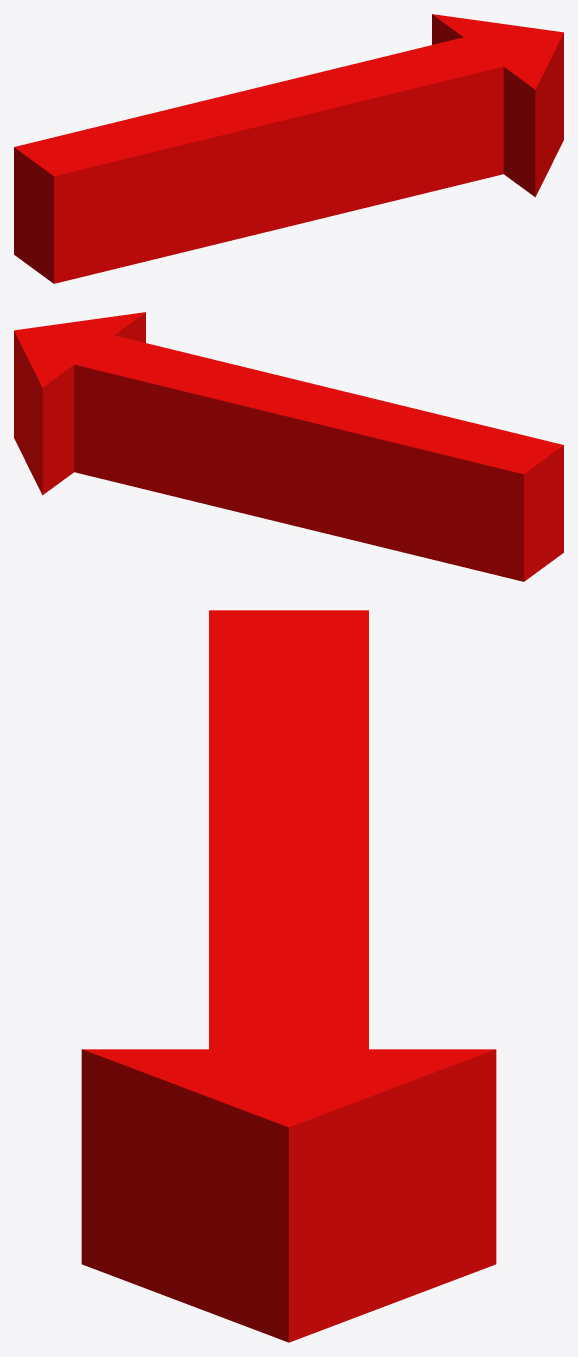
Rendered from asset.gltf.
3 renders of one model, top to bottom at view 1: azimuth 30°, elevation 25°; view 2: azimuth 150°, elevation 25°; view 3: azimuth 270°, elevation 25°, orthographic. The views are drawn at different scales.
Visible parts, largest first — view 1: mesh1_meshnode_1, mesh8_meshnode_8, mesh2_meshnode_2, mesh0_meshnode_0, mesh6_meshnode_6, mesh4_meshnode_4; view 2: mesh3_meshnode_3, mesh8_meshnode_8, mesh2_meshnode_2, mesh4_meshnode_4, mesh5_meshnode_5, mesh0_meshnode_0; view 3: mesh8_meshnode_8, mesh5_meshnode_5, mesh6_meshnode_6.
Part boxes in pixels (left/top/right/bottom): mesh1_meshnode_1: left=54, top=66, right=503, bottom=283; mesh8_meshnode_8: left=14, top=14, right=563, bottom=176; mesh2_meshnode_2: left=14, top=147, right=53, bottom=283; mesh0_meshnode_0: left=503, top=67, right=535, bottom=196; mesh6_meshnode_6: left=535, top=33, right=563, bottom=196; mesh4_meshnode_4: left=432, top=14, right=462, bottom=44; mesh3_meshnode_3: left=74, top=364, right=523, bottom=581; mesh8_meshnode_8: left=14, top=312, right=563, bottom=474; mesh2_meshnode_2: left=524, top=445, right=563, bottom=581; mesh4_meshnode_4: left=42, top=365, right=74, bottom=494; mesh5_meshnode_5: left=14, top=331, right=42, bottom=494; mesh0_meshnode_0: left=115, top=312, right=145, bottom=342; mesh8_meshnode_8: left=83, top=610, right=494, bottom=1127; mesh5_meshnode_5: left=289, top=1049, right=496, bottom=1342; mesh6_meshnode_6: left=81, top=1049, right=288, bottom=1342.
Bounding box in the file's own units: 0.1309 × 0.0254 × 0.0443.
